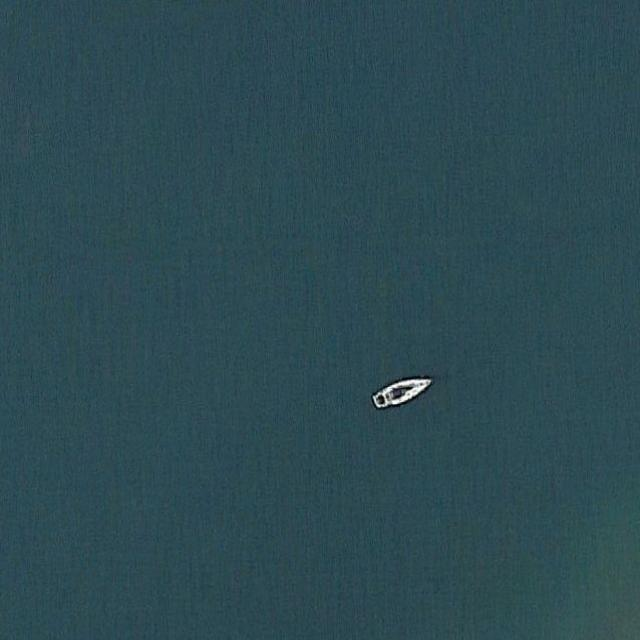ship: (372, 376, 434, 408)
